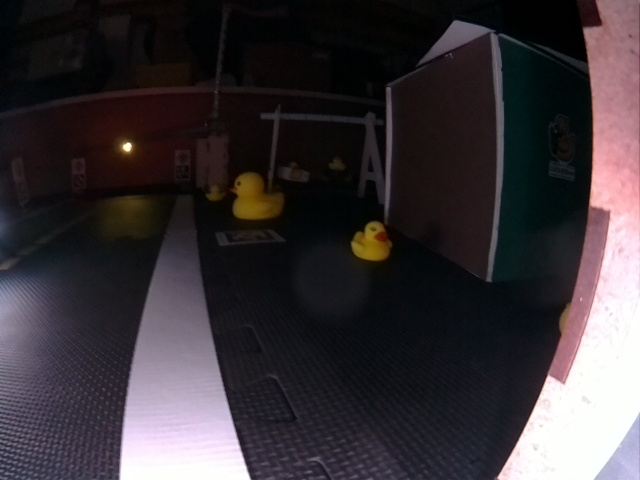Duckie: (231, 175, 285, 218), (353, 223, 393, 259), (206, 185, 222, 199), (329, 156, 345, 170)
QR code: (216, 229, 286, 245)
Traffic light: (120, 139, 134, 155)
